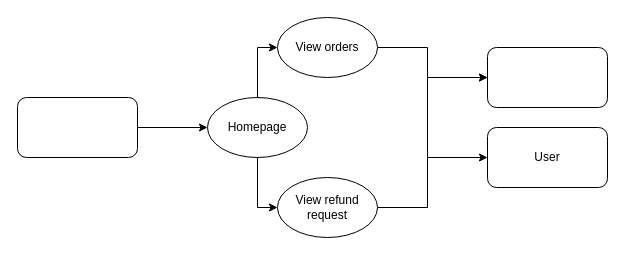
This 625x255 diagram has some shape labels left out. Here are the shapes that lost their labels. From the top down, the box of each, then its label:
(486, 46, 608, 108): Secure DB
(16, 96, 138, 158): Vendors / Admins
